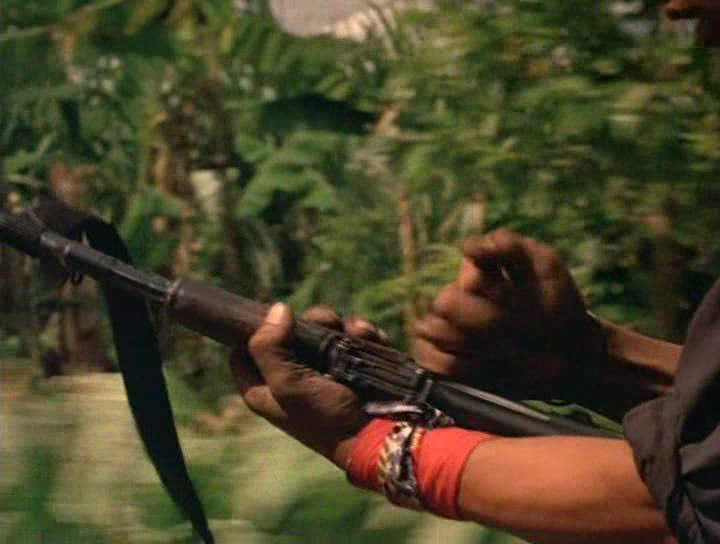gun: (7, 168, 608, 488)
